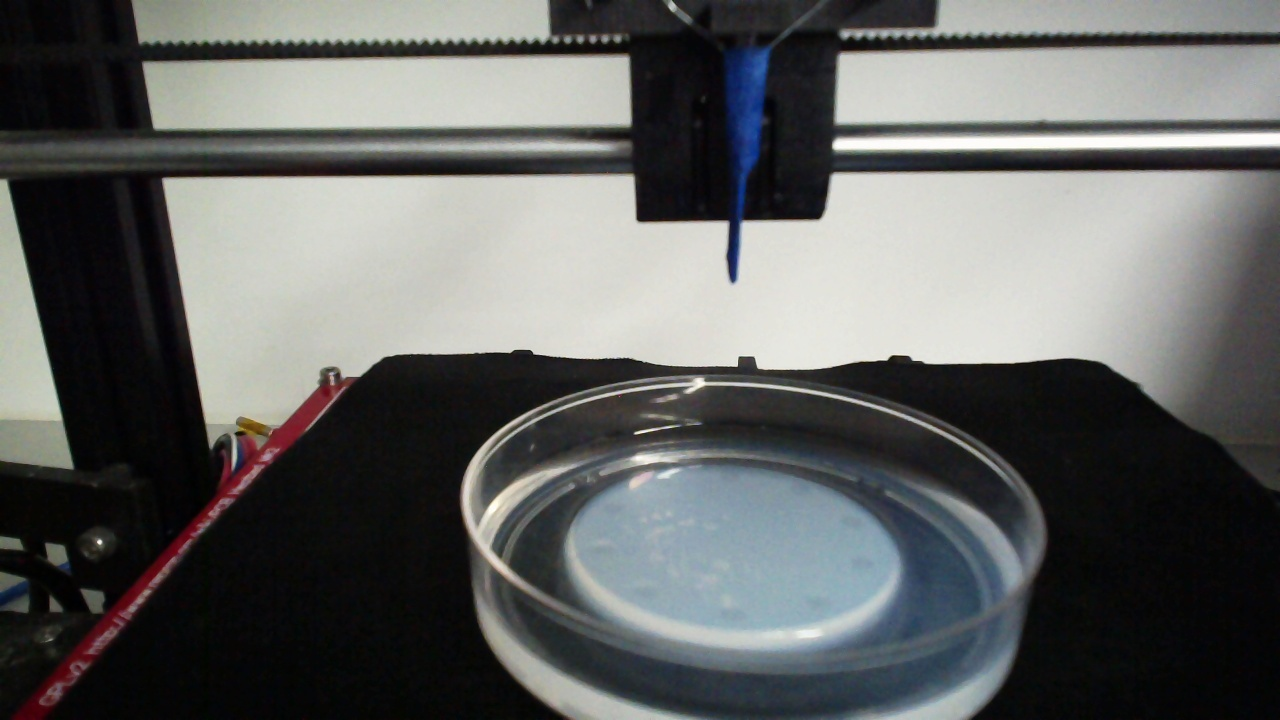groove: (589, 538, 623, 562), (628, 579, 661, 601), (804, 591, 833, 612), (717, 605, 748, 624), (598, 498, 629, 517), (840, 511, 868, 532), (847, 554, 876, 572), (789, 478, 814, 498), (717, 466, 741, 485)
needle: (727, 50, 768, 282)
